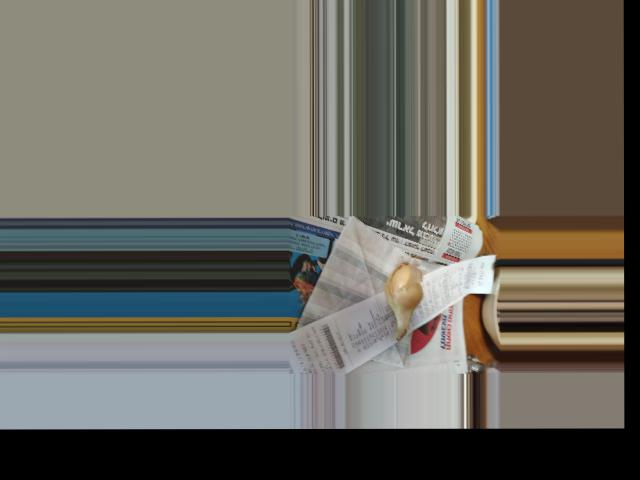onion: (381, 265, 423, 328)
